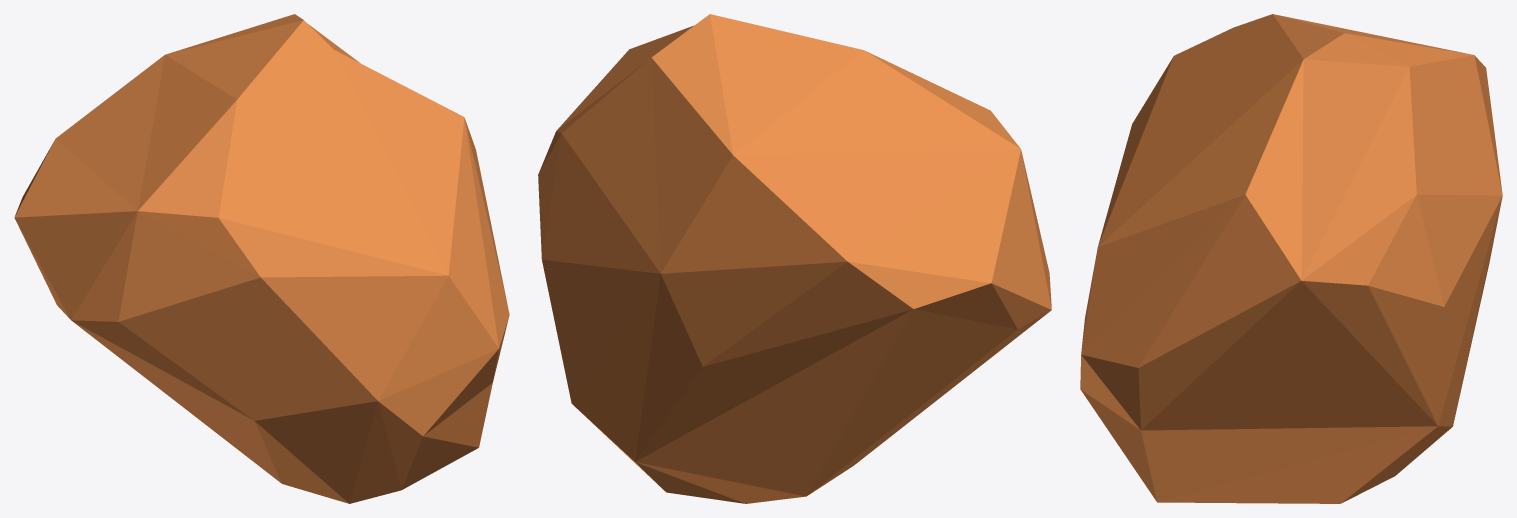
The model's file is Desert_Rock4 (1).fbx.
3 renders of one model, left to right at view 1: azimuth 30°, elevation 25°; view 2: azimuth 150°, elevation 25°; view 3: azimuth 270°, elevation 25°, orthographic. The views are drawn at different scales.
Parts seen in each view (by area): view 1: Sphere.001; view 2: Sphere.001; view 3: Sphere.001.
Part boxes in pixels (<box>): Sphere.001: <box>14,14,509,503</box>; Sphere.001: <box>538,14,1051,503</box>; Sphere.001: <box>1080,14,1502,503</box>.
Size of the model in its own units: 149 by 146 by 120.
